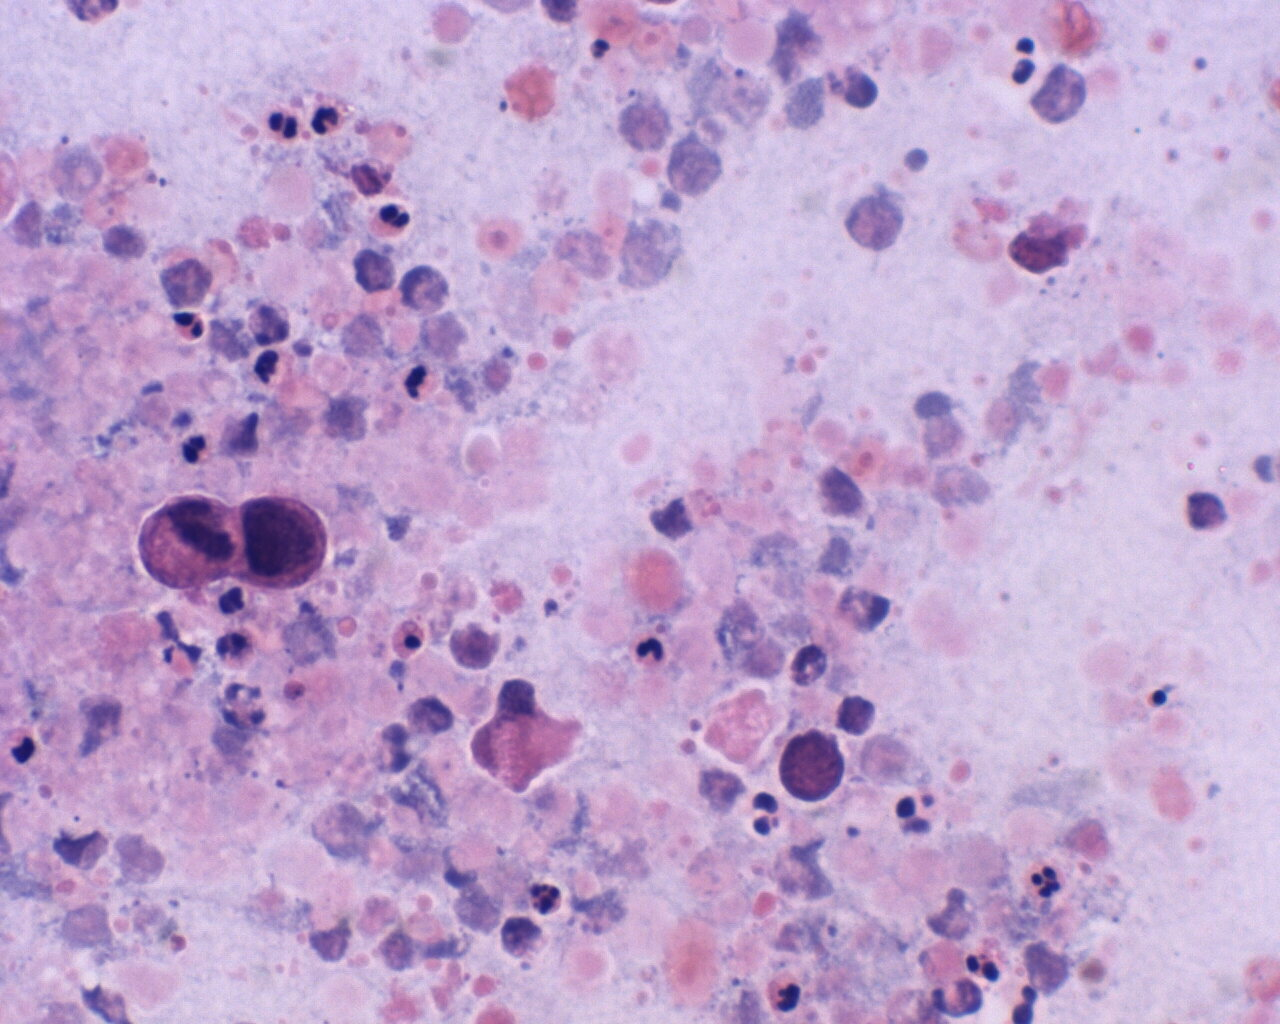ab: (135, 492, 248, 596), (240, 489, 326, 594)
neutro: (1021, 858, 1071, 903), (169, 303, 217, 348), (306, 95, 351, 139), (628, 625, 666, 671)
